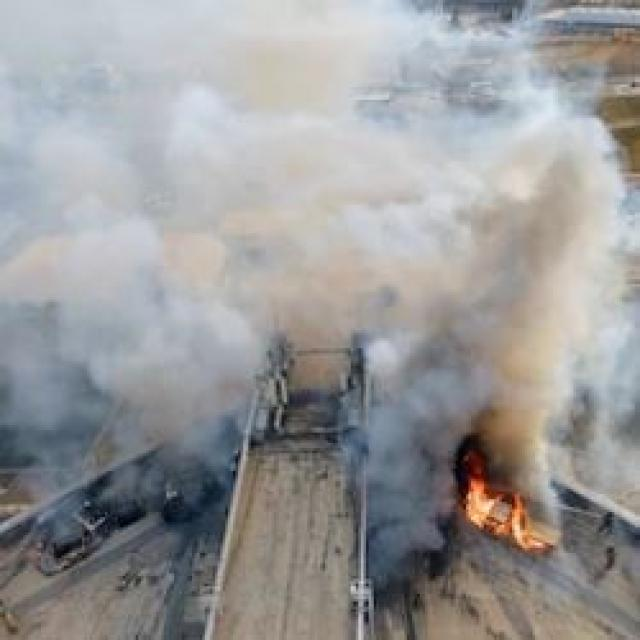Fire: (464, 473, 543, 548)
Smoke: (0, 4, 610, 512)
